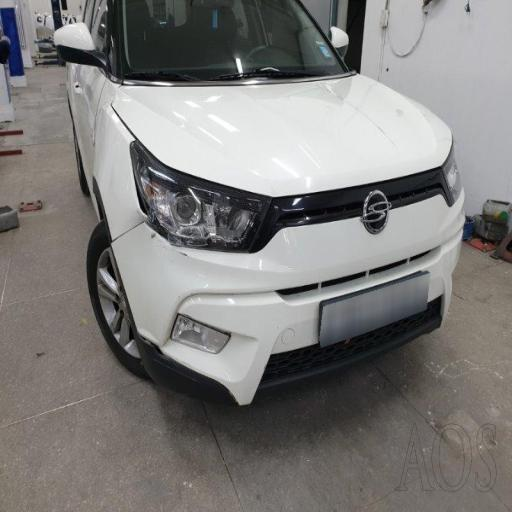broken: (100, 160, 275, 350)
